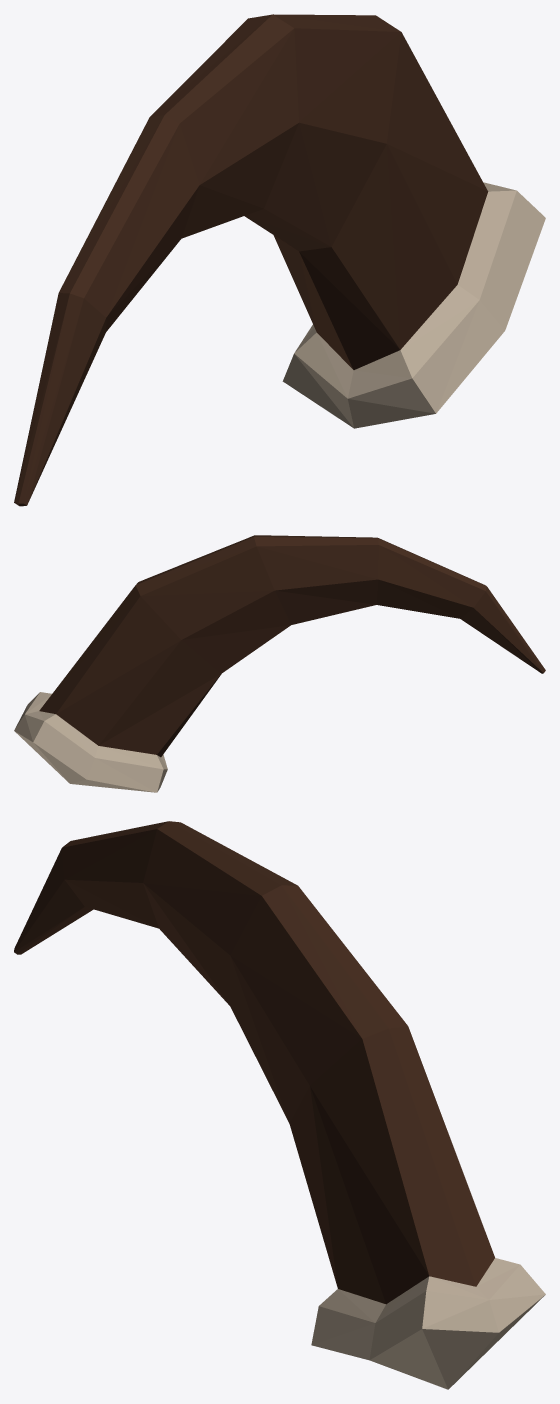
File: 76df5c49-cb5b-40a0-b7e6-ca1bab1e0183.glb
3 renders of one model, top to bottom at view 1: azimuth 30°, elevation 25°; view 2: azimuth 150°, elevation 25°; view 3: azimuth 270°, elevation 25°, orthographic. The views are drawn at different scales.
Parts seen in each view (by area): view 1: Node; view 2: Node; view 3: Node.
Boxes of the visible parts, x1,y1,x2,y2 form: Node: (14, 14, 545, 506); Node: (14, 535, 545, 792); Node: (14, 821, 545, 1389).
Bounding box in the file's own units: 1.7 × 1.02 × 1.21.
